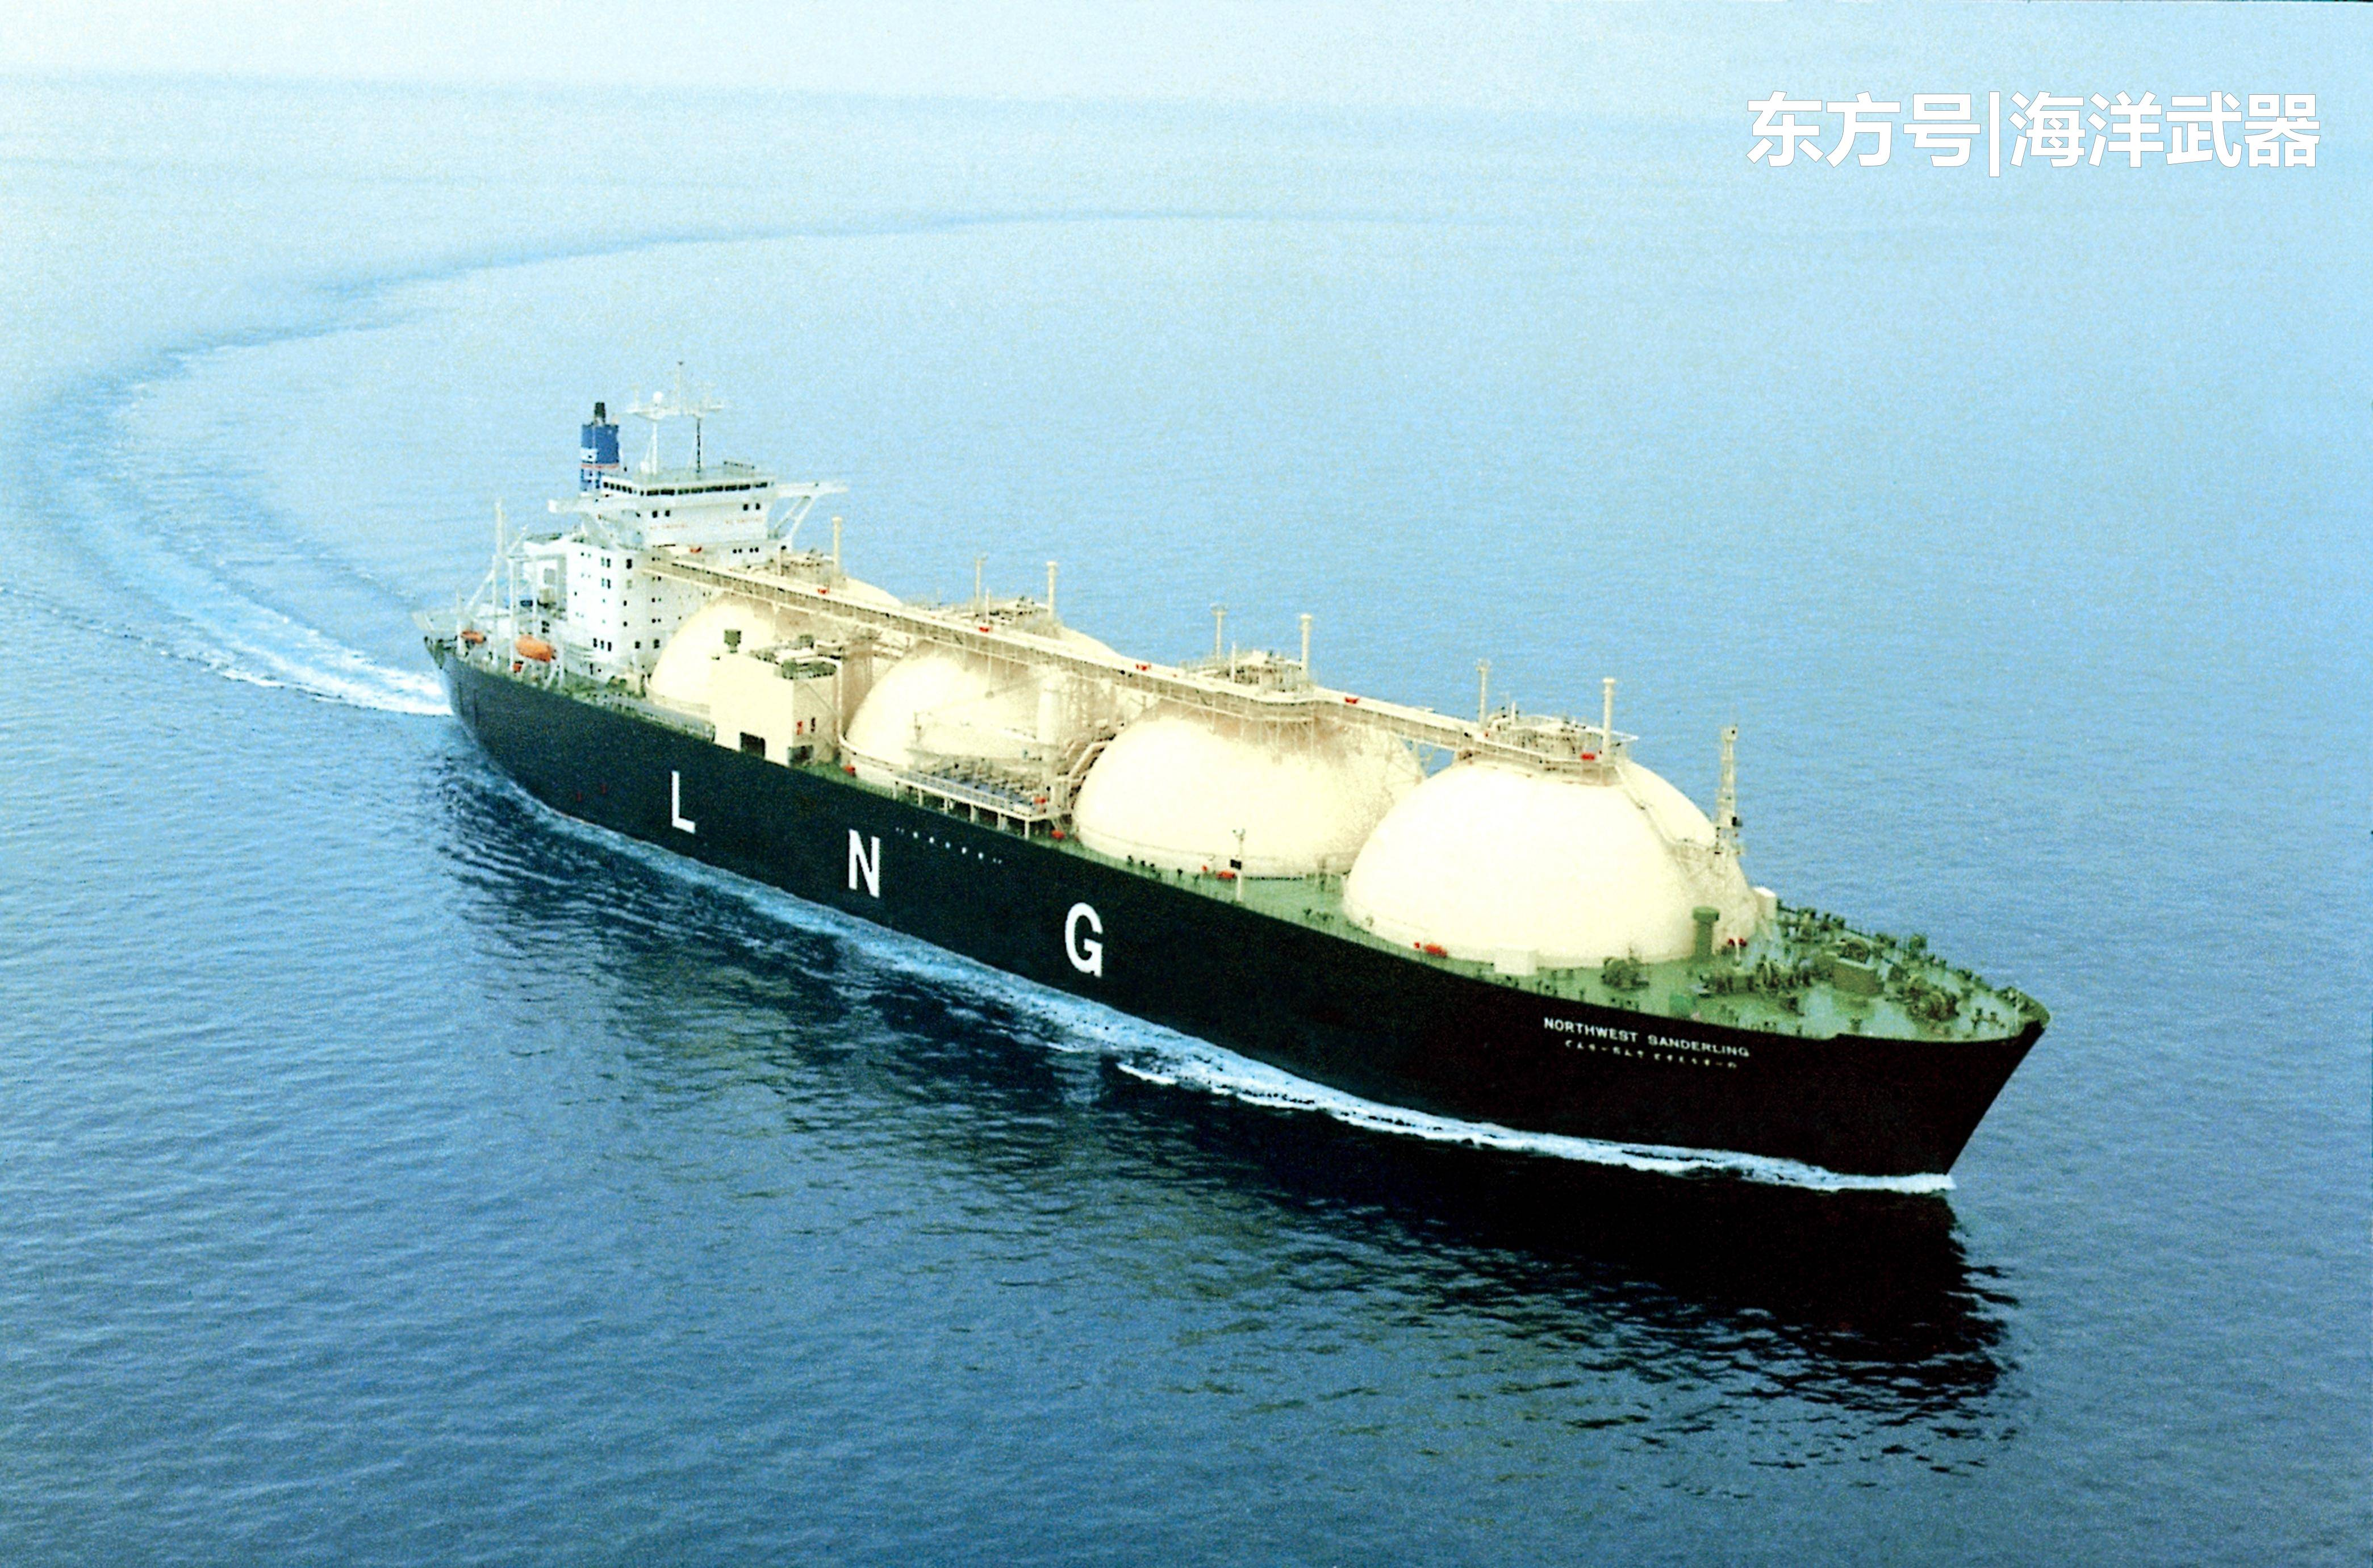Cargoship: (403, 383, 2051, 1186)
